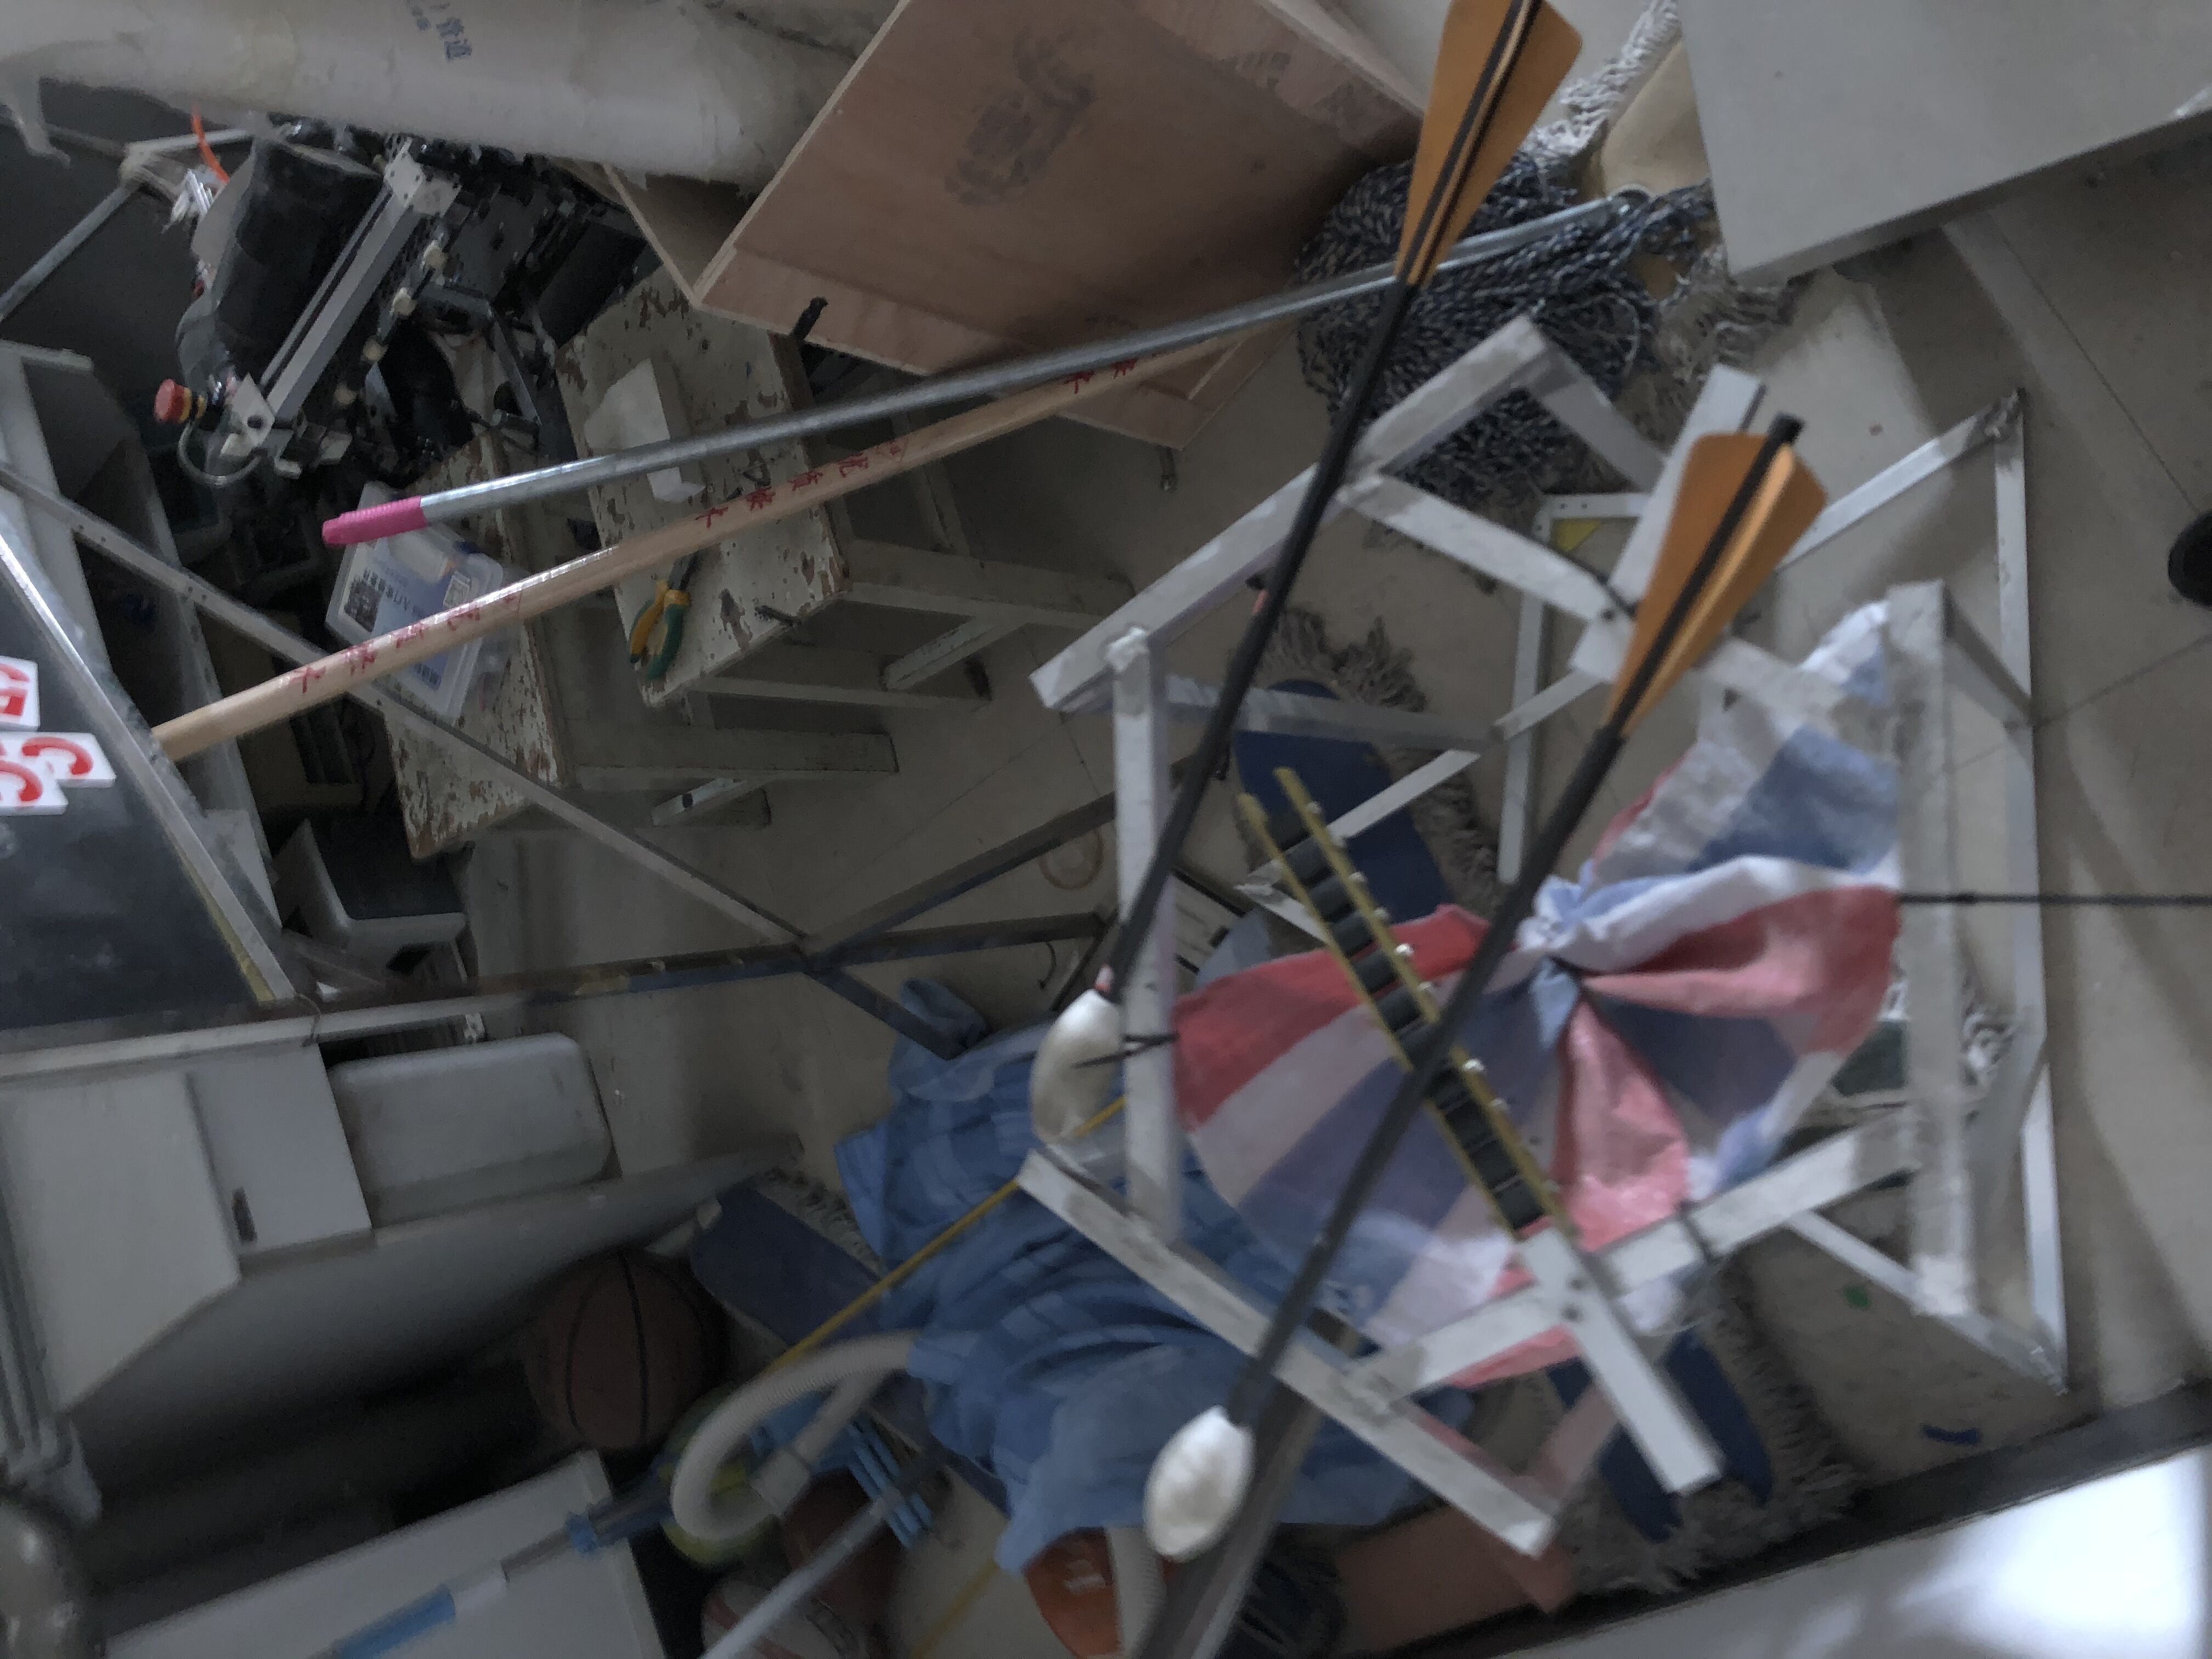arrow: (1143, 420, 1831, 1565), (1031, 0, 1585, 1134)
arrowFront: (1141, 1403, 1259, 1563), (1028, 990, 1130, 1133)
